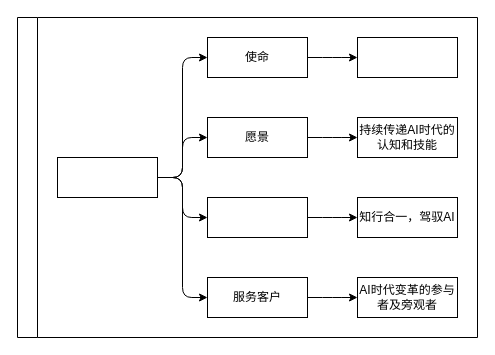
Image size: 495x355. Some labels were removed from this diagram. The shapes that lost their labels are listed below. From the top down, each one's centre as x and y in pixels, then its label:
At point (407, 57): "帮助1亿人因AI受益".
At point (107, 177): "公司名称：？".
At point (257, 217): "品牌标语".
